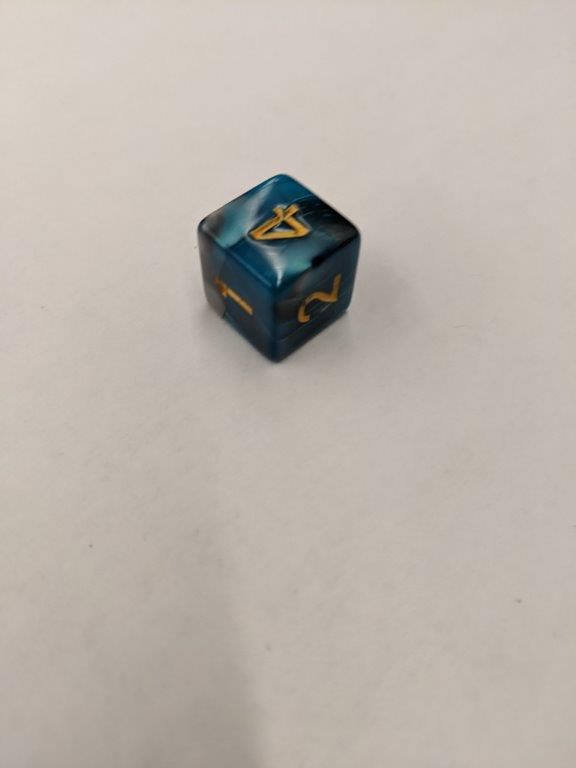d6-4: (197, 173, 363, 370)
